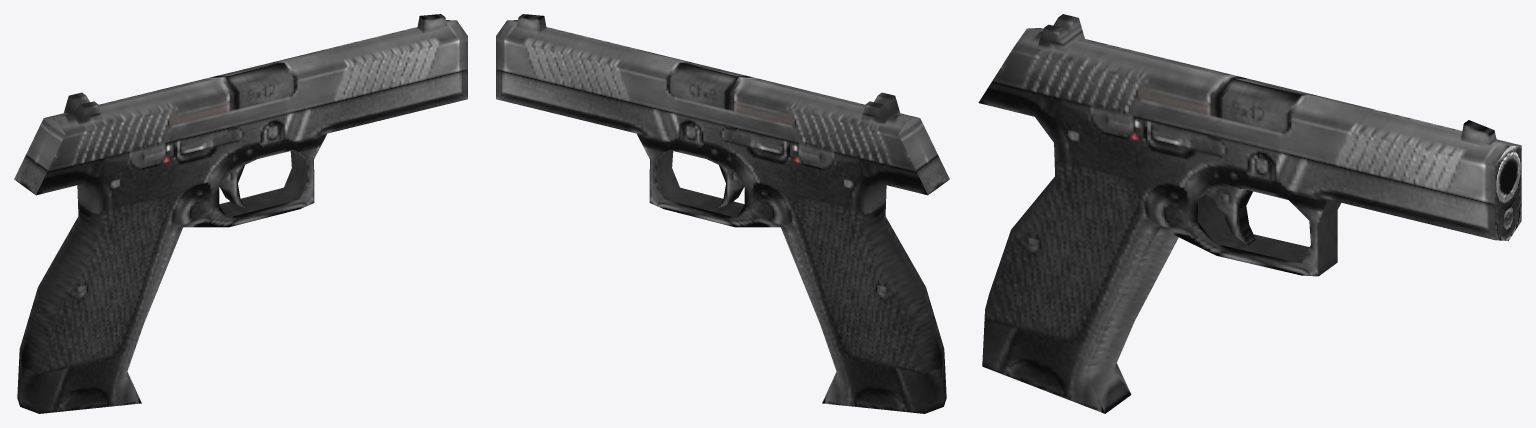
File: low-poly_lebedev_pistol.glb
3 views of the same model, side by side, from view 1: azimuth 30°, elevation 25°; view 2: azimuth 150°, elevation 25°; view 3: azimuth 330°, elevation 25° (orthographic). The views are drawn at different scales.
Parts seen in each view (by area): view 1: Cube; view 2: Cube; view 3: Cube.
Boxes of the visible parts, x1,y1,x2,y2 form: Cube: (14, 14, 467, 413); Cube: (496, 14, 949, 413); Cube: (978, 14, 1521, 413).
Size of the model in its own units: 3.16 by 2.12 by 0.274.
1 material, 1 textured.
